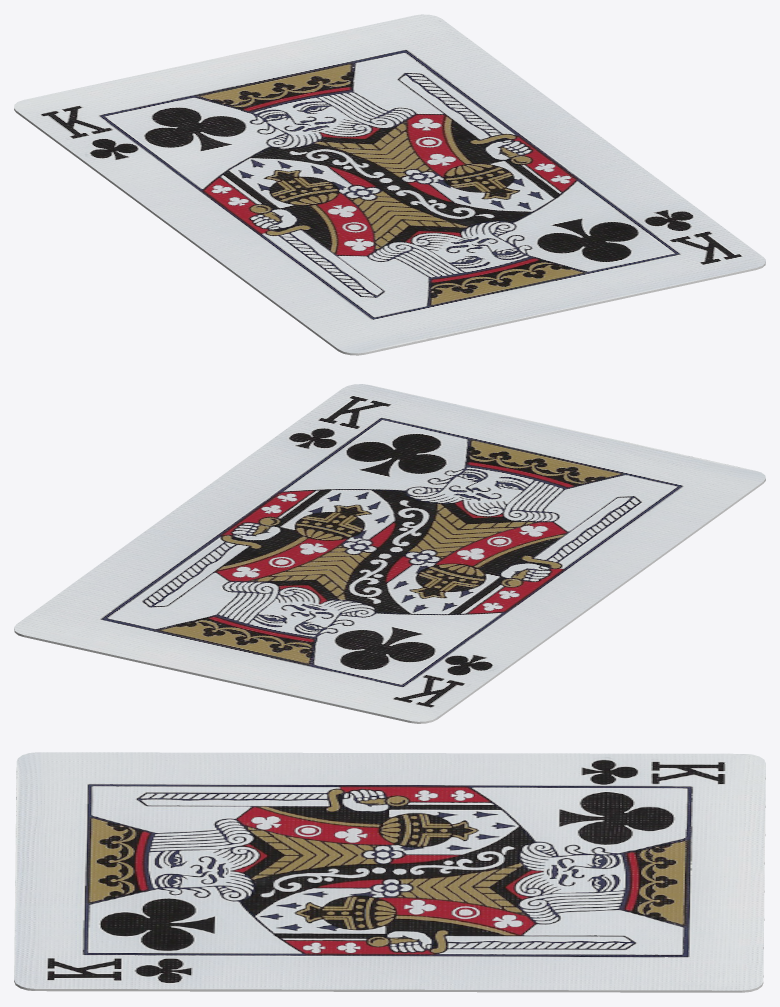
Rendered from clubsK.fbx.
3 renders of one model, top to bottom at view 1: azimuth 30°, elevation 25°; view 2: azimuth 150°, elevation 25°; view 3: azimuth 270°, elevation 25°, orthographic. The views are drawn at different scales.
Visible parts, largest first — view 1: Clubs_K_5; view 2: Clubs_K_5; view 3: Clubs_K_5.
Part boxes in pixels (left/top/right/bottom): Clubs_K_5: left=14, top=14, right=765, bottom=355; Clubs_K_5: left=14, top=384, right=765, bottom=723; Clubs_K_5: left=14, top=752, right=765, bottom=992.
Size of the model in its own units: 6.3 by 0.1786 by 8.83.
